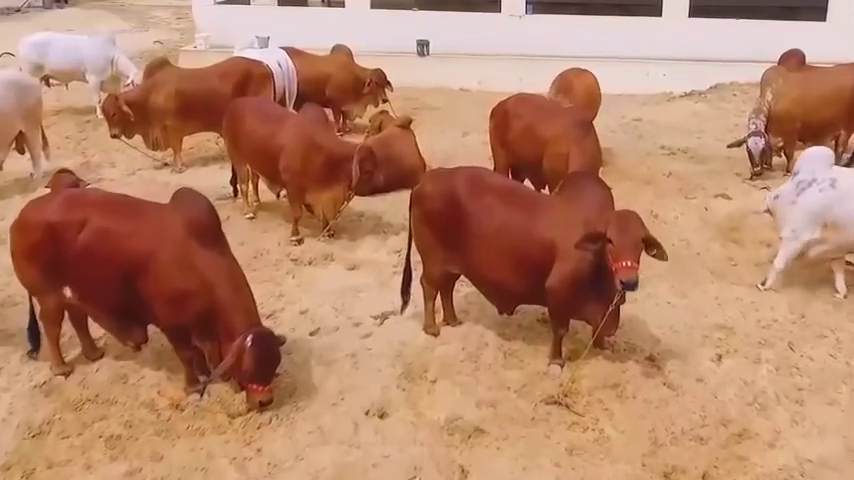bo: (14, 165, 290, 419), (404, 164, 659, 385), (209, 76, 386, 235), (94, 51, 277, 178), (725, 39, 854, 180), (737, 137, 847, 299), (487, 90, 619, 197), (21, 27, 151, 108), (349, 95, 439, 202), (290, 41, 388, 121), (4, 65, 64, 176), (543, 46, 613, 135), (235, 25, 303, 107)
